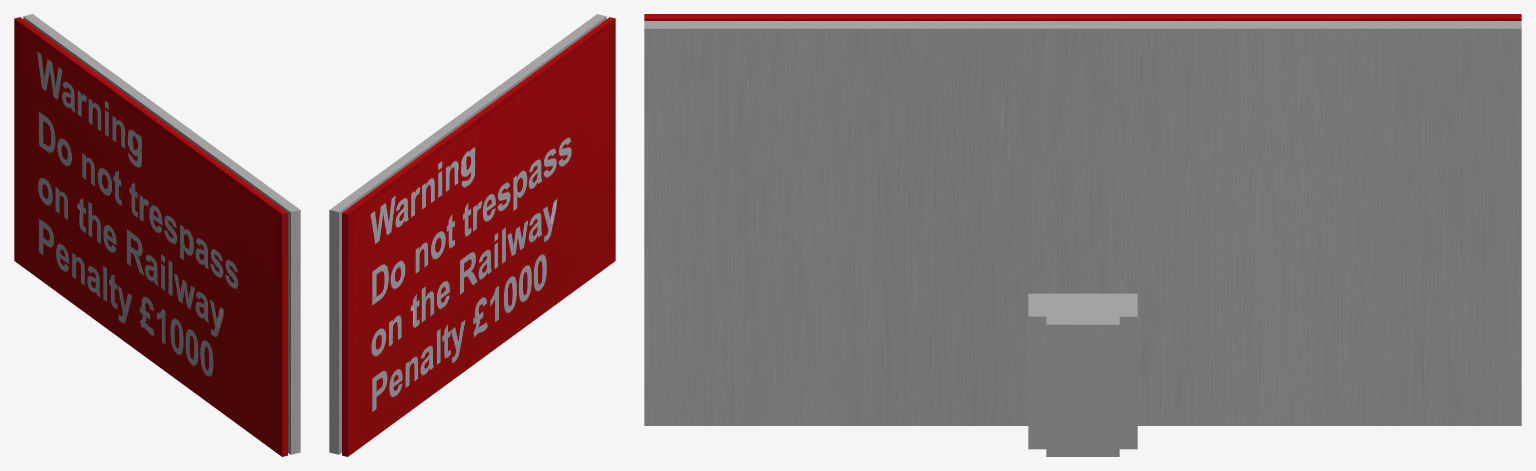
Rendered from tresspass_small.obj.
The picture shows the model from 3 angles, left to right: view 1: azimuth 30°, elevation 25°; view 2: azimuth 150°, elevation 25°; view 3: azimuth 270°, elevation 25°; orthographic projection. The views are drawn at different scales.
Parts seen in each view (by area): view 1: cube; view 2: cube; view 3: cube.
Part boxes in pixels (box(x1,y1,x2,y2)): cube: box(14, 14, 300, 456); cube: box(329, 14, 615, 456); cube: box(644, 14, 1521, 456).
Size of the model in its own units: 0.0922 by 0.375 by 0.75.
2 materials, 2 textured.
